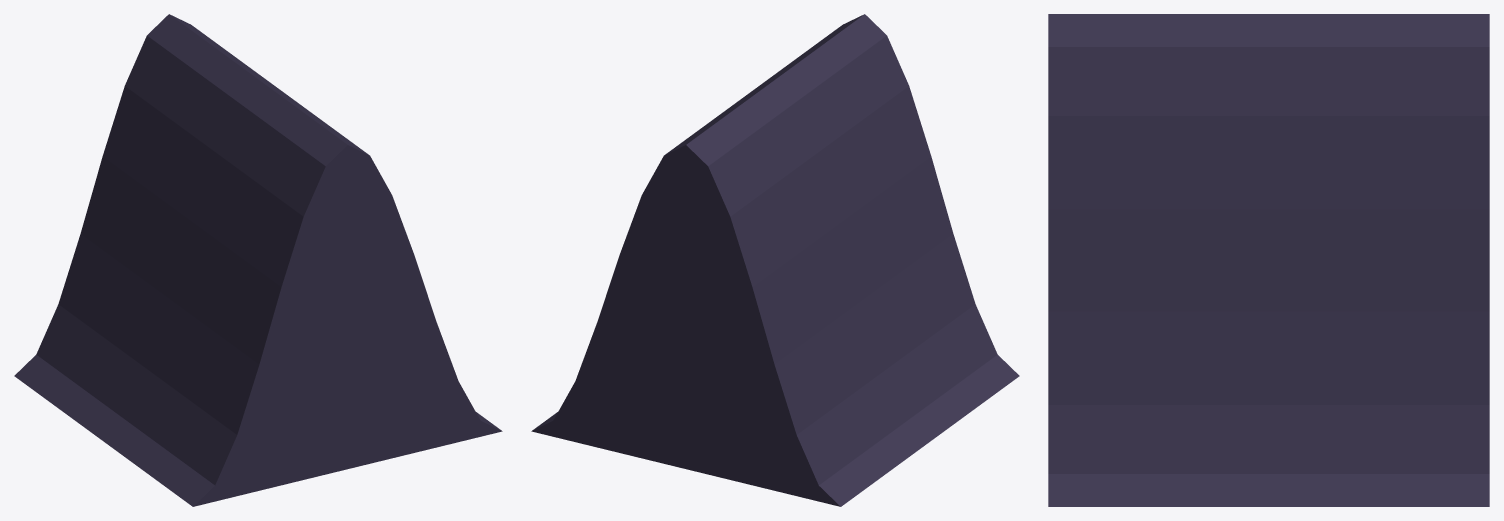
Rendered from arch_dark.glb.
3 views of the same model, side by side, from view 1: azimuth 30°, elevation 25°; view 2: azimuth 150°, elevation 25°; view 3: azimuth 270°, elevation 25° (orthographic). The views are drawn at different scales.
Parts seen in each view (by area): view 1: Body; view 2: Body; view 3: Body.
Boxes of the visible parts, x1=… form: Body: x1=14, y1=14, x2=502, y2=506; Body: x1=531, y1=14, x2=1019, y2=506; Body: x1=1048, y1=14, x2=1489, y2=506.
Bounding box in the file's own units: 1 × 1 × 1.
